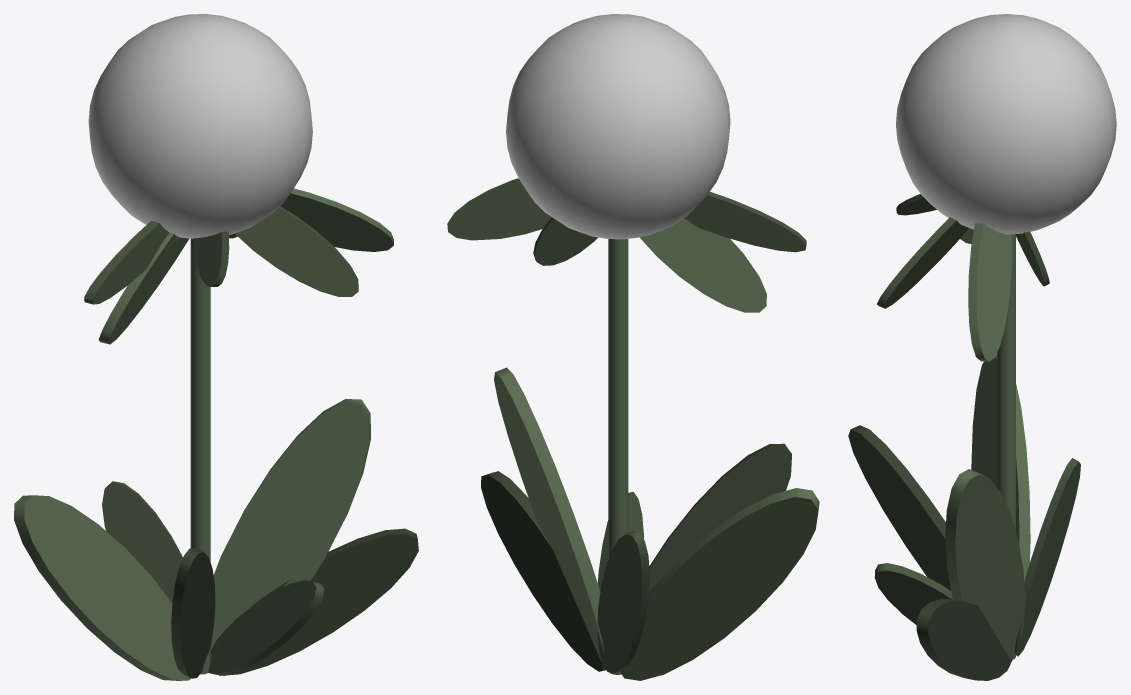
Rendered from mockup_flower.fbx.
3 renders of one model, left to right at view 1: azimuth 30°, elevation 25°; view 2: azimuth 150°, elevation 25°; view 3: azimuth 270°, elevation 25°, orthographic. The views are drawn at different scales.
Parts seen in each view (by area): view 1: mockup_flower; view 2: mockup_flower; view 3: mockup_flower.
Boxes of the visible parts, x1,y1,x2,y2 form: mockup_flower: (14, 14, 418, 680); mockup_flower: (447, 14, 819, 680); mockup_flower: (848, 14, 1116, 680).
Size of the model in its own units: 0.2819 by 0.4673 by 0.1783.
